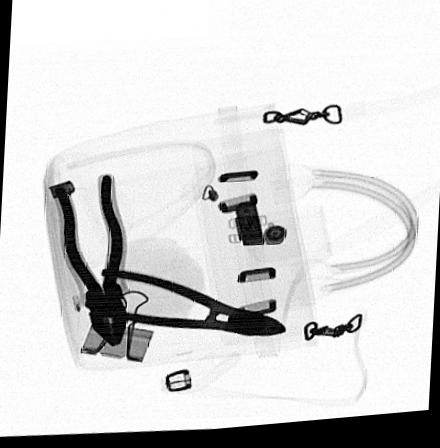Pliers: (89, 269, 286, 341), (51, 174, 129, 350)
